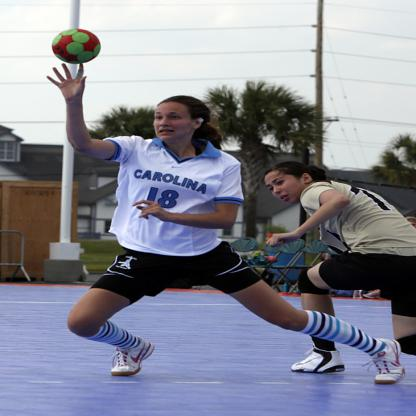Ball: (52, 27, 103, 67)
